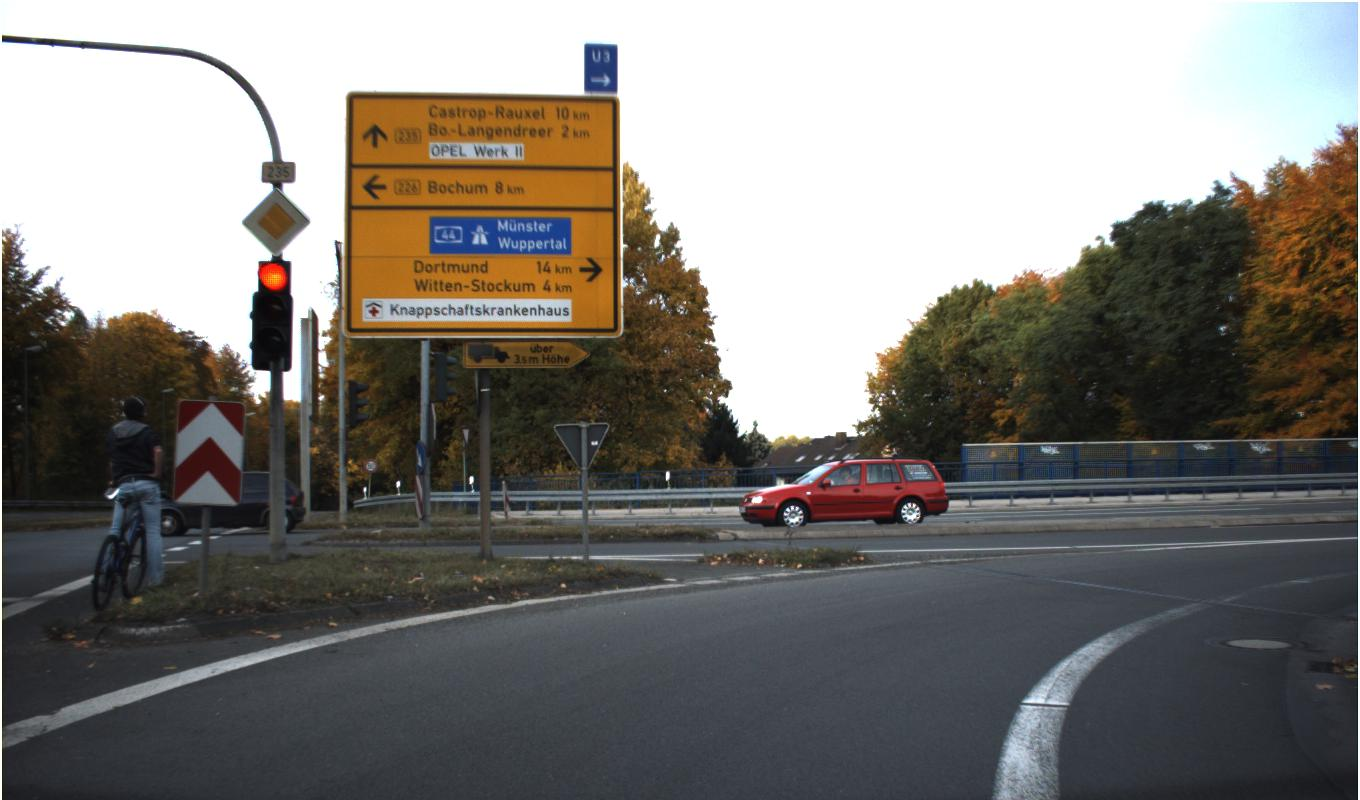sign: (241, 187, 310, 256)
